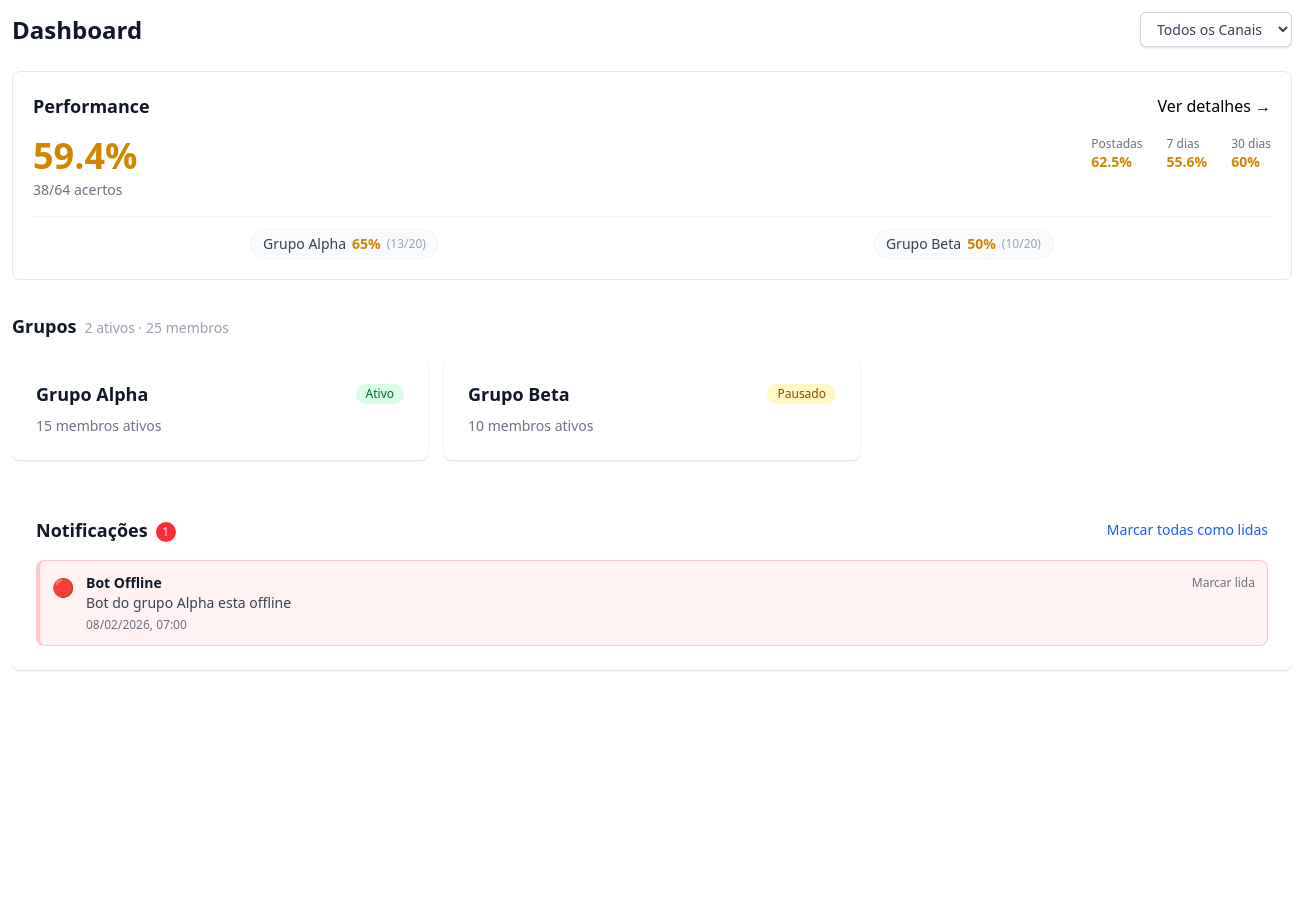
Scenario: DashboardPage › mark as read removes notification from dashboard (unread only)
The image size is (1304, 912).
Expected: the heading "Grupos" is shown, [12,312,76,340]
Expected: the text "Bot Offline" is shown, [86,573,162,592]
Click the "Marcar lida" button for the first unread notification
Click the button "Marcar lida".
click(1223, 583)  # box [1192,575,1255,591]
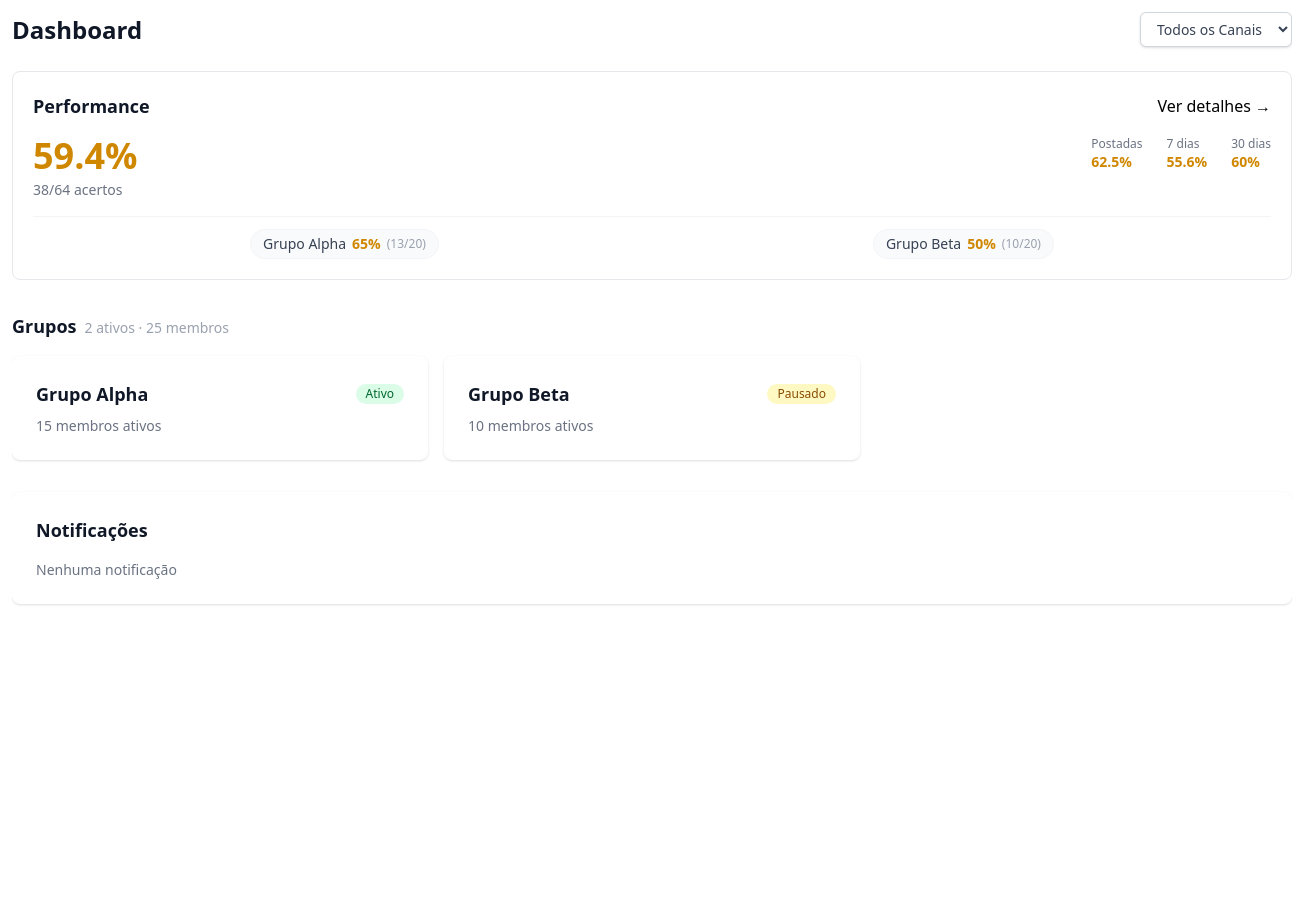
Expected: the text "Bot Offline" is gone
